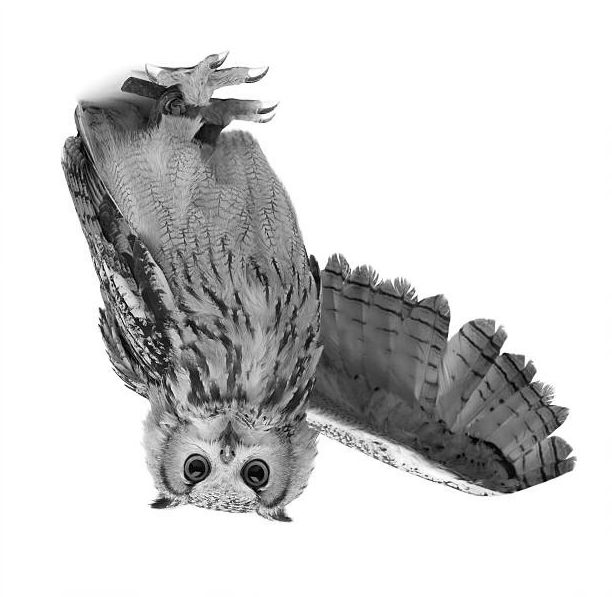Bird: (53, 44, 585, 528)
